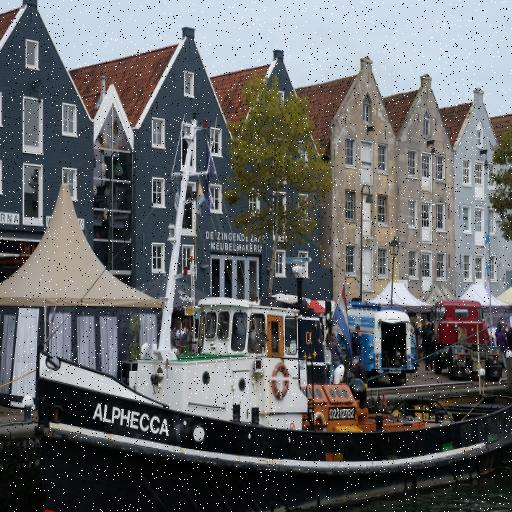tugboat: (34, 109, 512, 512)
